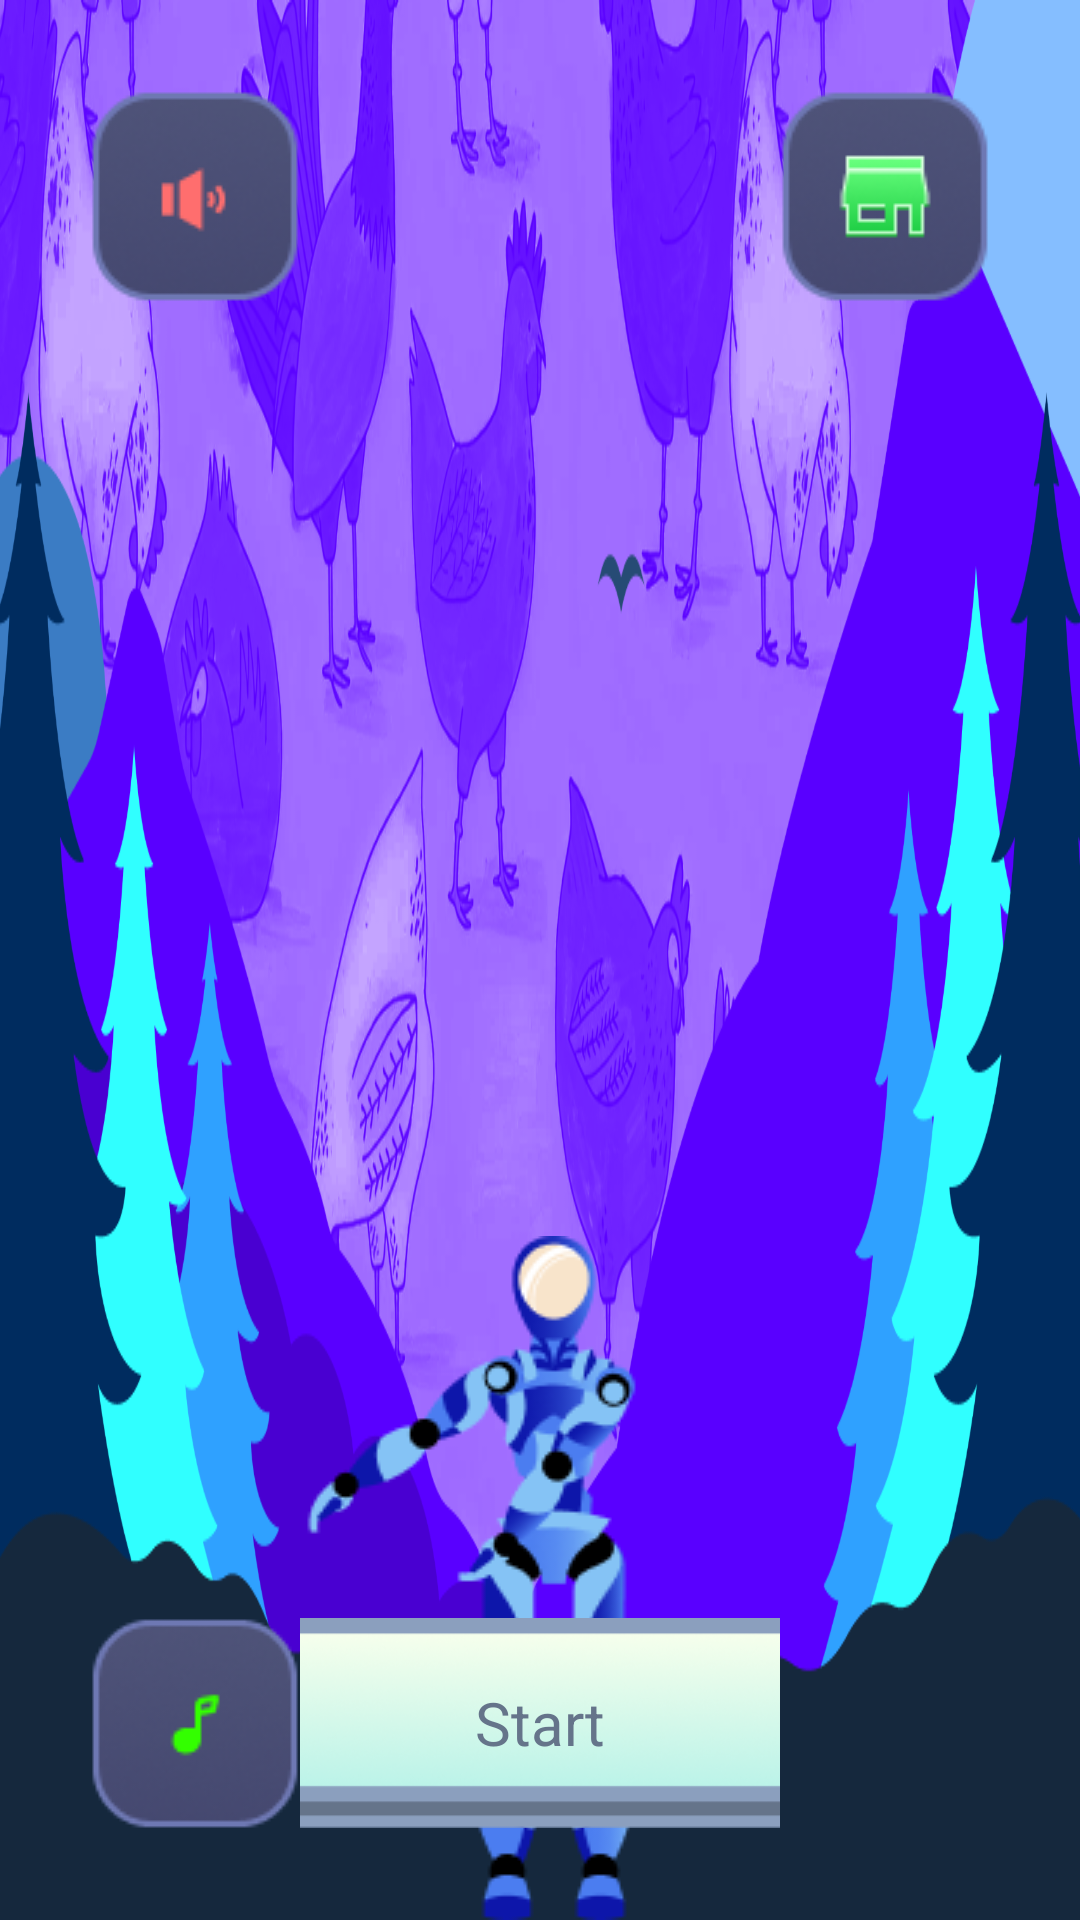

Point at icon controls on the screen. Image size 1080w x 1920h, points as (x,y).
music: (196,1722)
shop: (885,196)
sound: (195,196)
